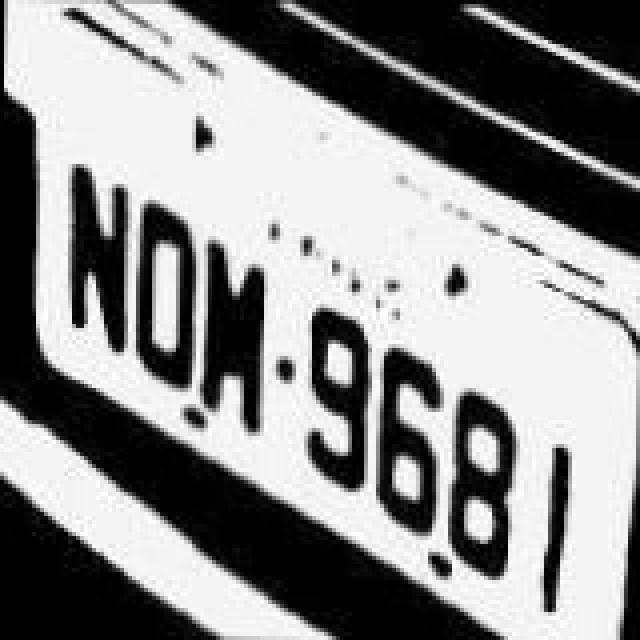1: (526, 356, 602, 640)
6: (362, 278, 450, 562)
8: (430, 292, 526, 596)
9: (302, 228, 386, 512)
M: (190, 204, 274, 500)
N: (42, 146, 134, 438)
O: (122, 170, 206, 466)
